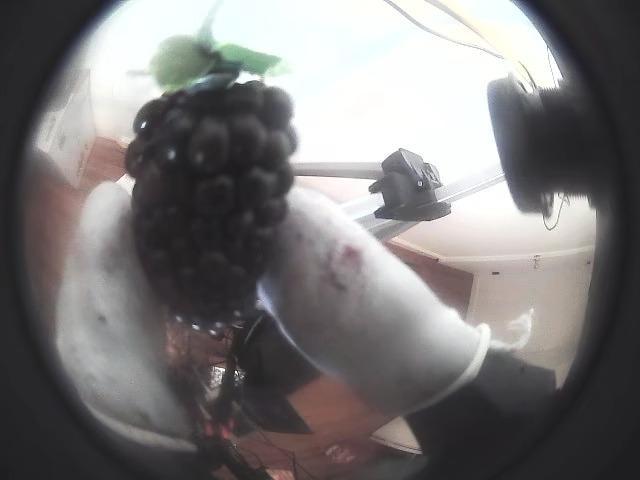berry: (126, 16, 296, 328)
gripper: (261, 186, 490, 414), (56, 183, 193, 450)
lense: (0, 0, 143, 479), (499, 0, 639, 479)
